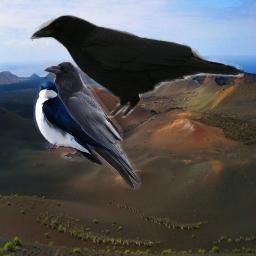Crow: (24, 9, 244, 118), (43, 60, 143, 191)
Swallow: (33, 79, 111, 165)
